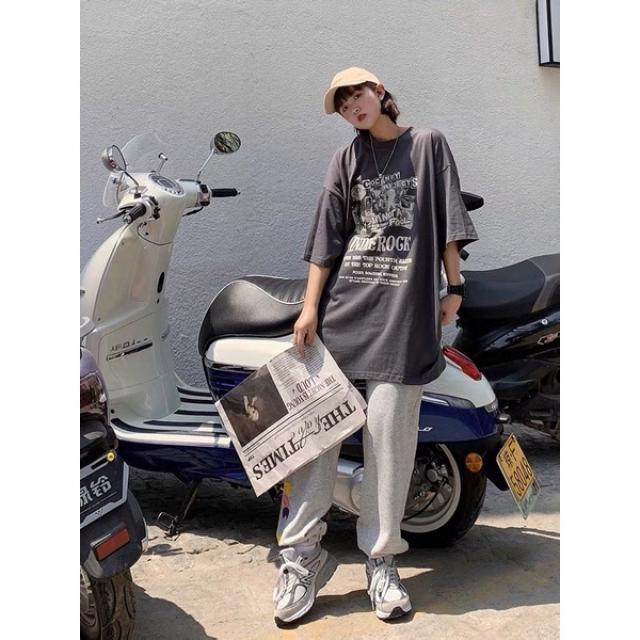Shirt: (298, 118, 482, 386)
